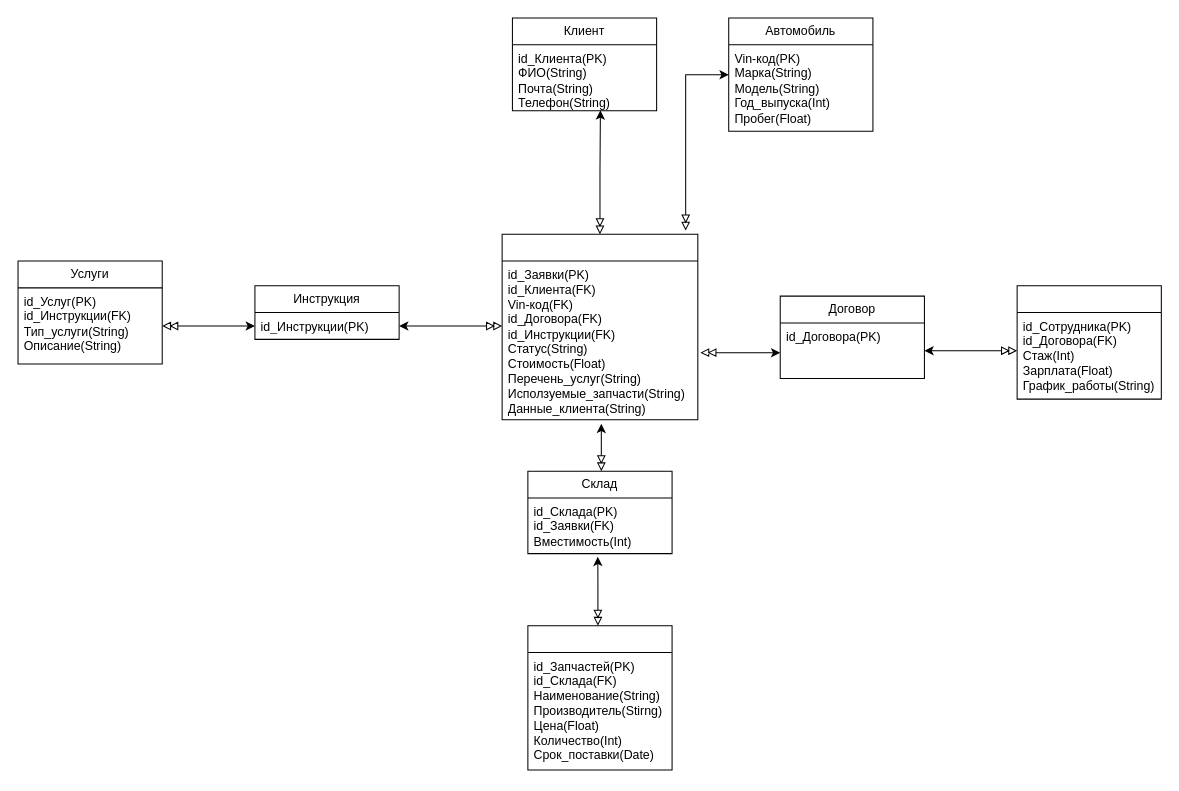
Image size: 1179x791. Some labels were removed from this diagram. Here are the shapes that lost their labels. From the top down, the box of each, then its label:
(501, 233, 698, 420): Заявка
(1016, 285, 1161, 399): Сотрудники
(527, 625, 672, 770): Запчасти
